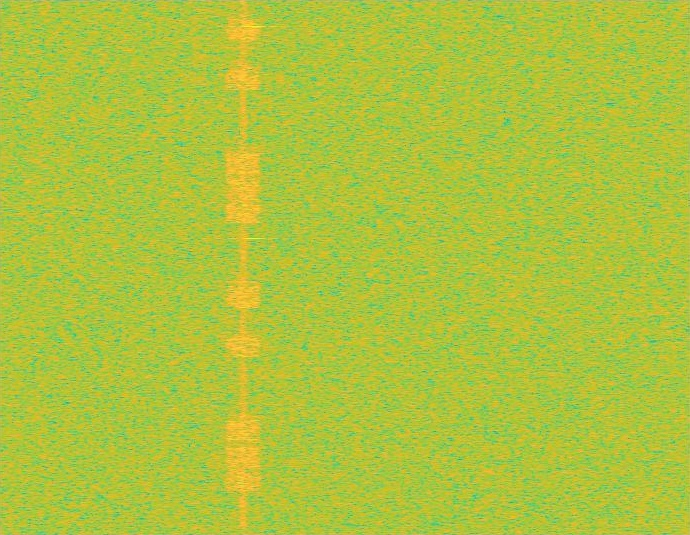DSSS: (239, 0, 247, 534)
LTE: (226, 0, 260, 534)
Radar: (247, 0, 260, 534)
